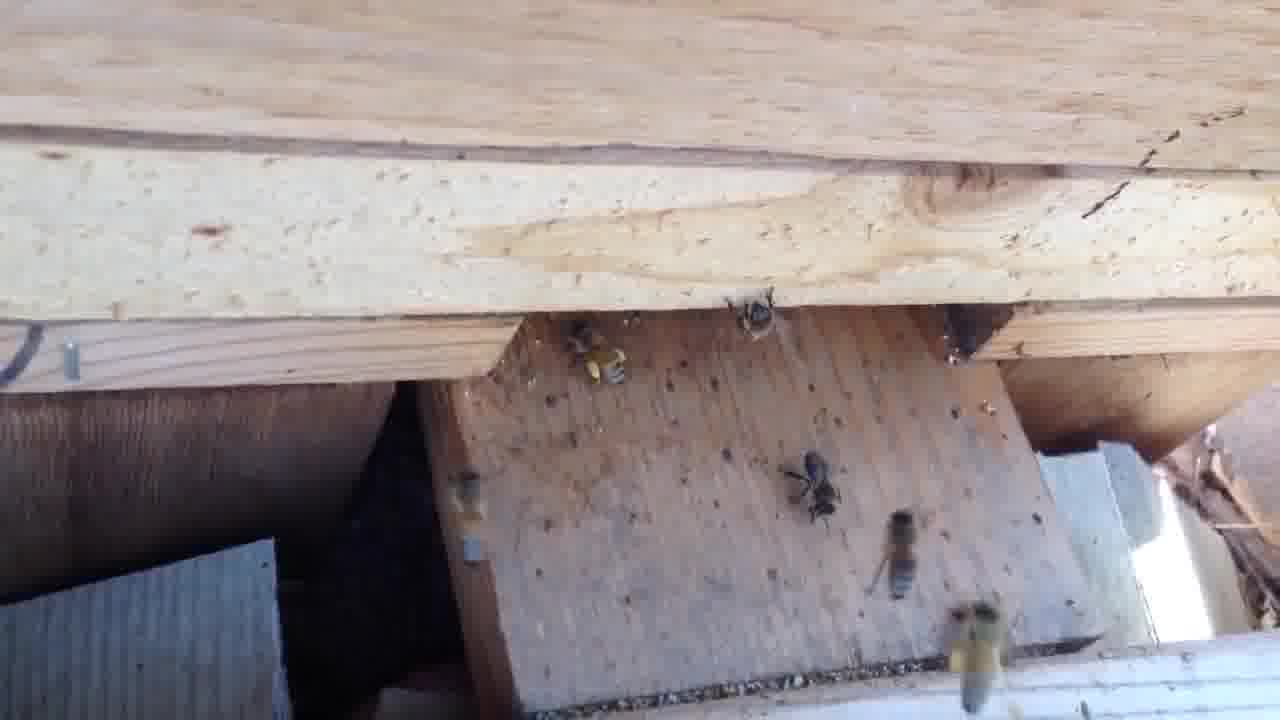pollen: (950, 595, 1011, 714), (561, 321, 641, 395)
